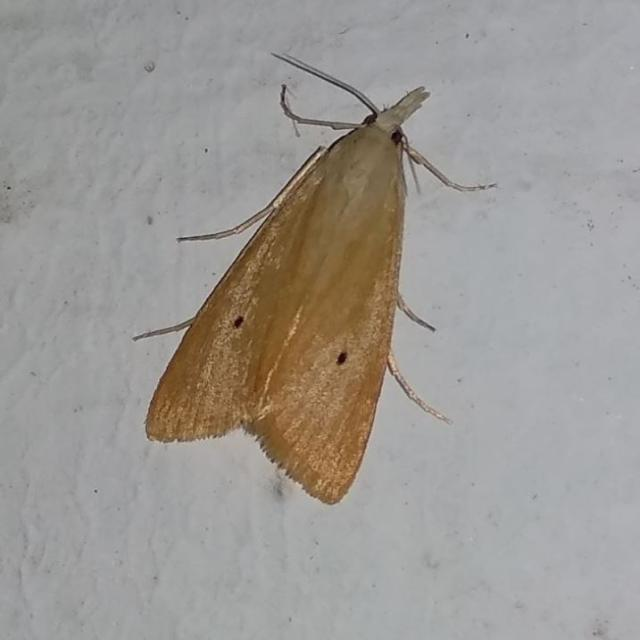rice stem borer -penggerek batang padi-: (131, 48, 498, 506)
